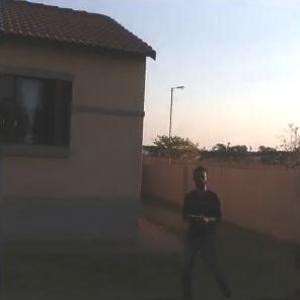follow: (169, 160, 232, 299)
